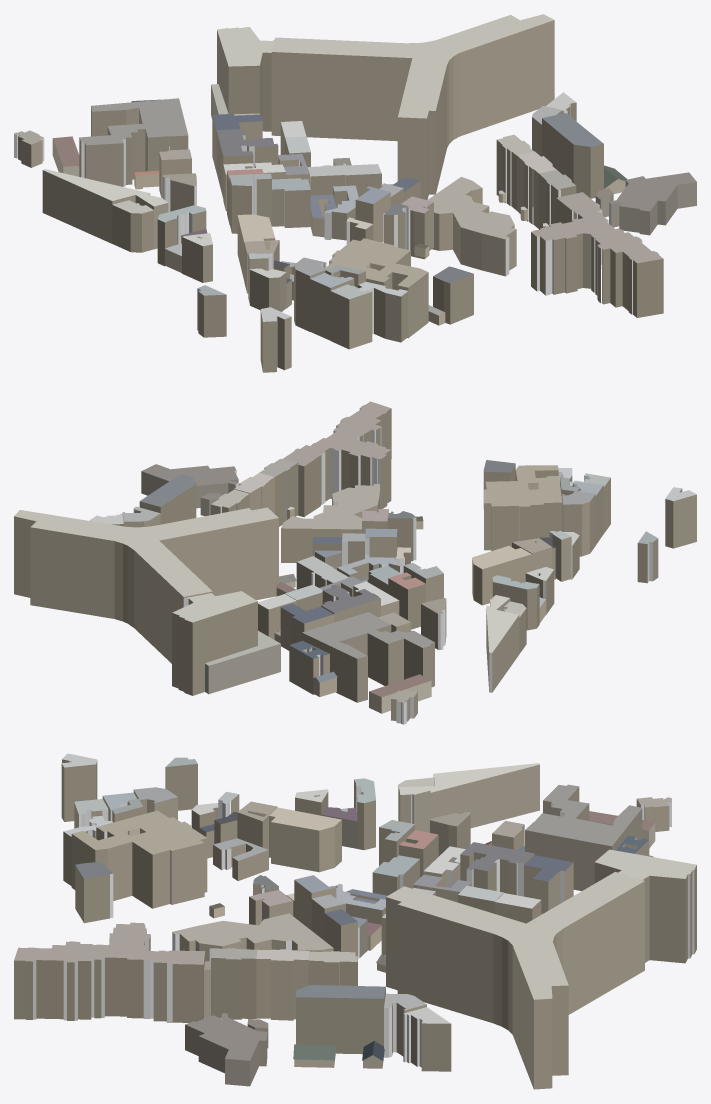
3 renders of one model, top to bottom at view 1: azimuth 30°, elevation 25°; view 2: azimuth 150°, elevation 25°; view 3: azimuth 270°, elevation 25°, orthographic. The views are drawn at different scales.
Parts seen in each view (by area): view 1: tuile; view 2: tuile; view 3: tuile.
Part boxes in pixels (x1,y1,x2,y2): tuile: (14, 14, 696, 372); tuile: (14, 401, 696, 724); tuile: (14, 753, 696, 1089).
Bounding box in the file's own units: 272 × 42.56 × 289.
